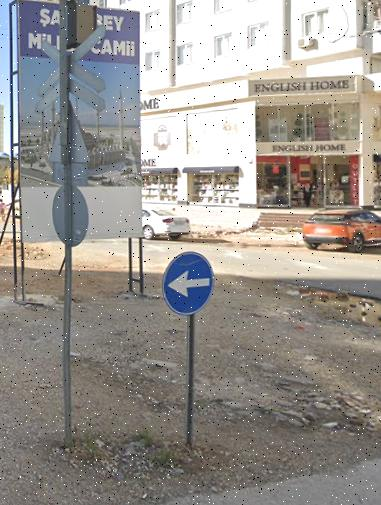turnleft: (163, 249, 216, 315)
